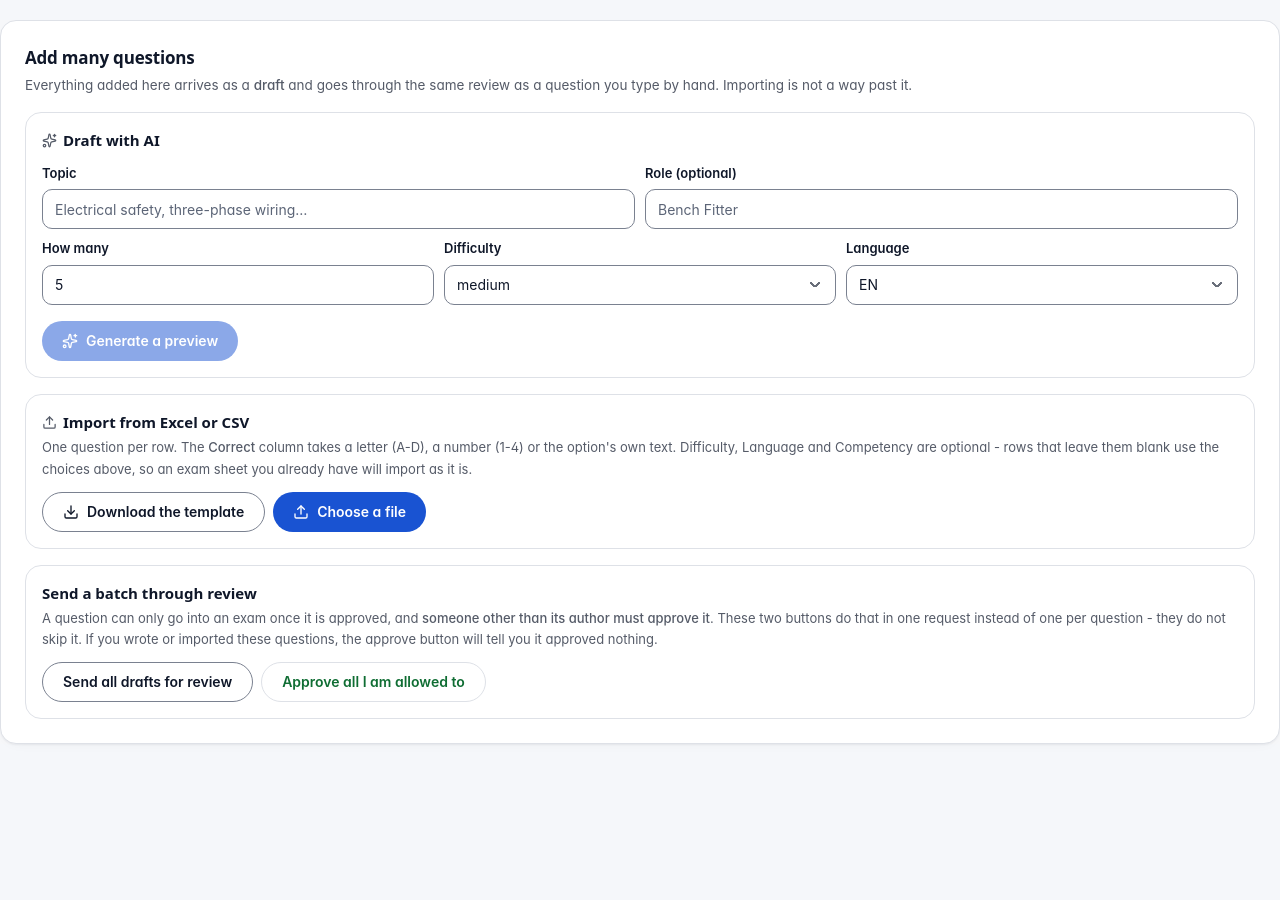
Test: BankFillPanel - AI is a preview, not a save › shows a 503 sentence inline (not a toast) and retries from the same panel
Type "Electrical safety" into the field labelled "Topic" at (338, 209), box top-left (42, 189), bottom-right (635, 229)
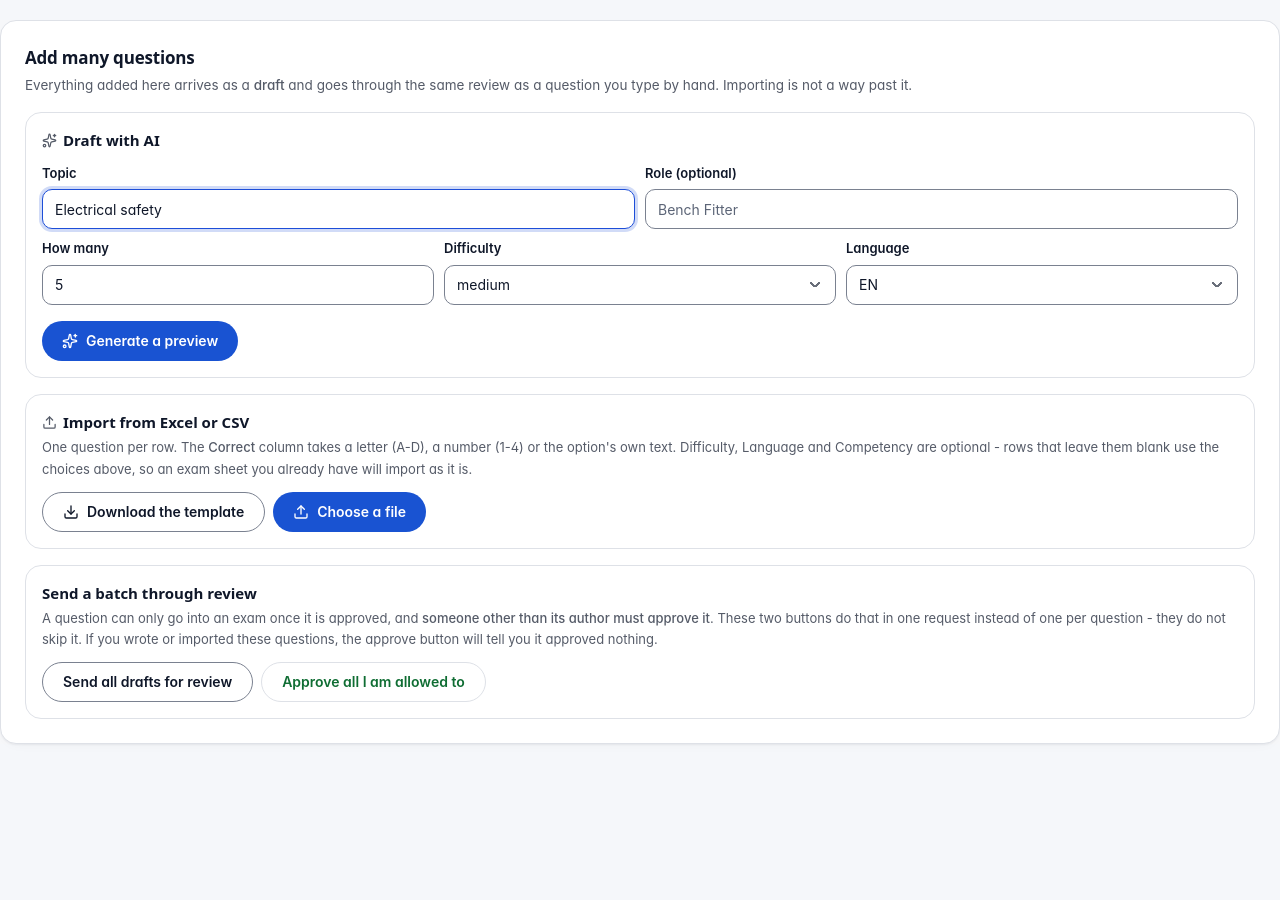
Click the button "Generate a preview" at (140, 341), box top-left (42, 321), bottom-right (238, 361)
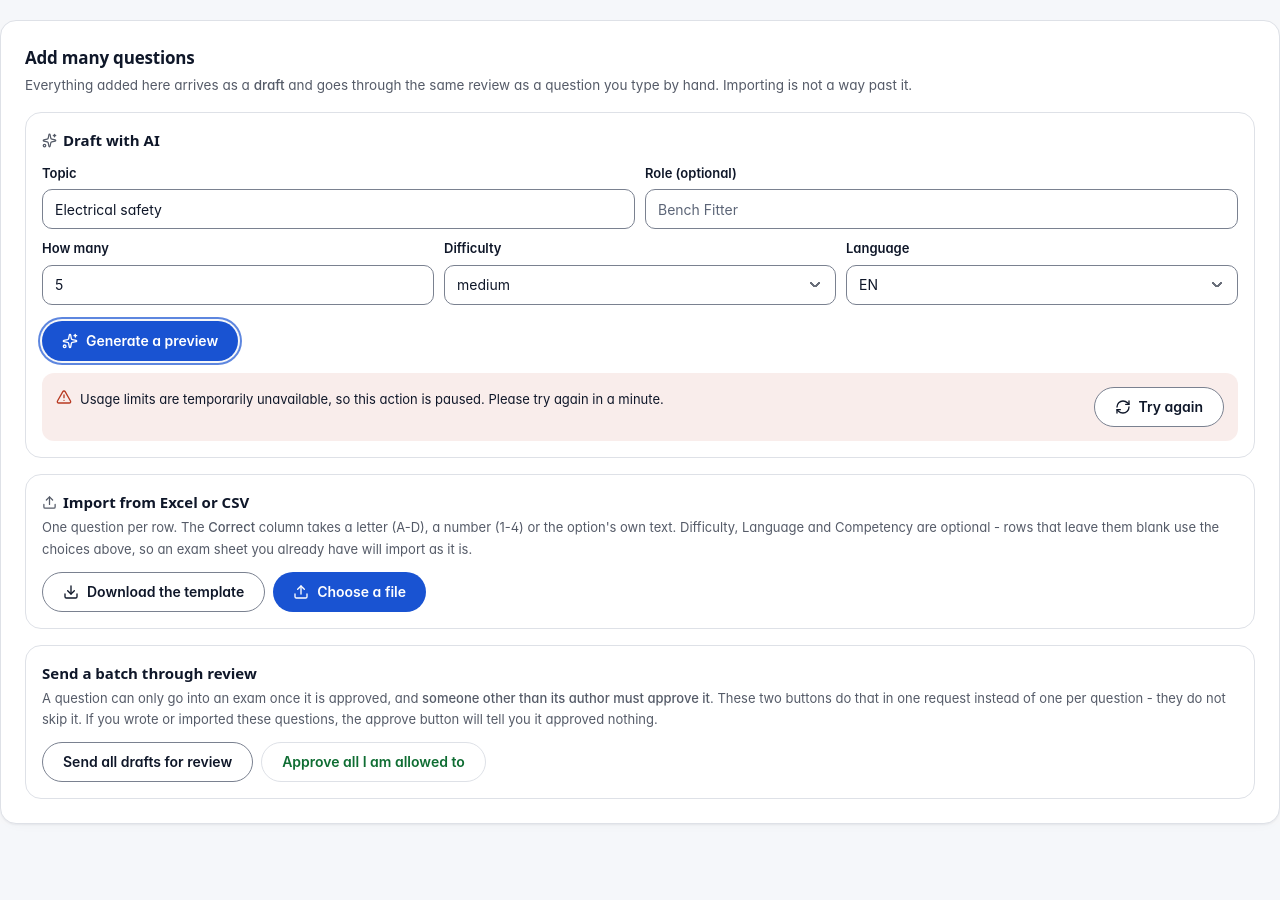
Expected: the message shows "Usage limits are temporarily unavailable, so this action is paused. Please try again in a minute.", top-left (80, 391), bottom-right (664, 407)
Click the button "Try again" at (1159, 407), box top-left (1094, 387), bottom-right (1224, 427)
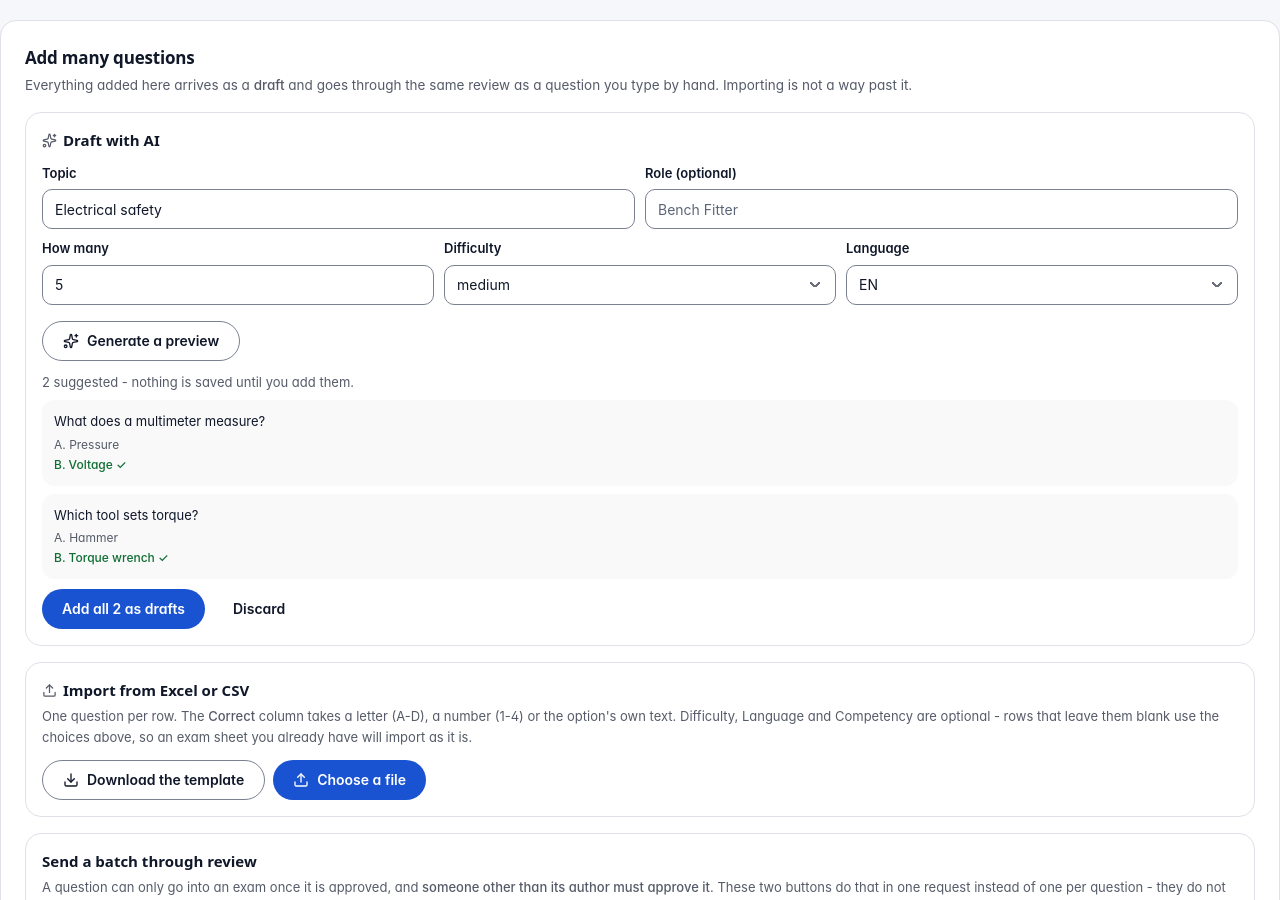
Expected: the element with test id "bank-ai-preview" is shown, top-left (42, 373), bottom-right (1238, 629)
